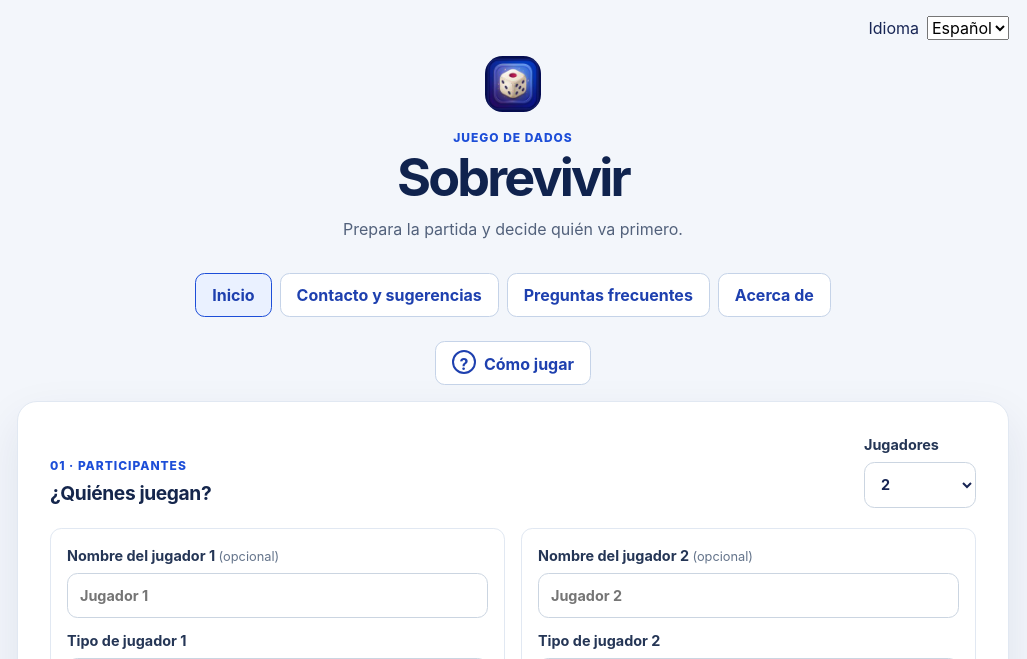
Test: App › informa si no puede guardar el idioma y permite cambiarlo durante la sesión
This screenshot has width=1027, height=659.
Select "English" in the dropdown labelled "Idioma" at (968, 28), box [927,16,1009,40]
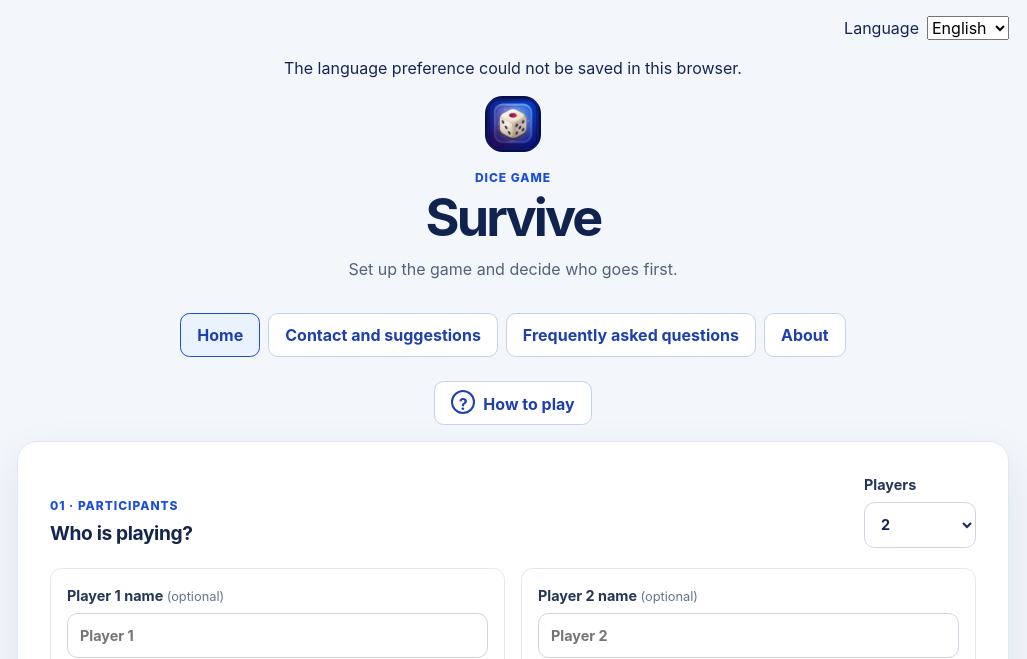
Result: the heading "Survive" is shown at [426,186,600,249]
Result: the message shows "language preference could not be saved" at [284,58,742,78]
